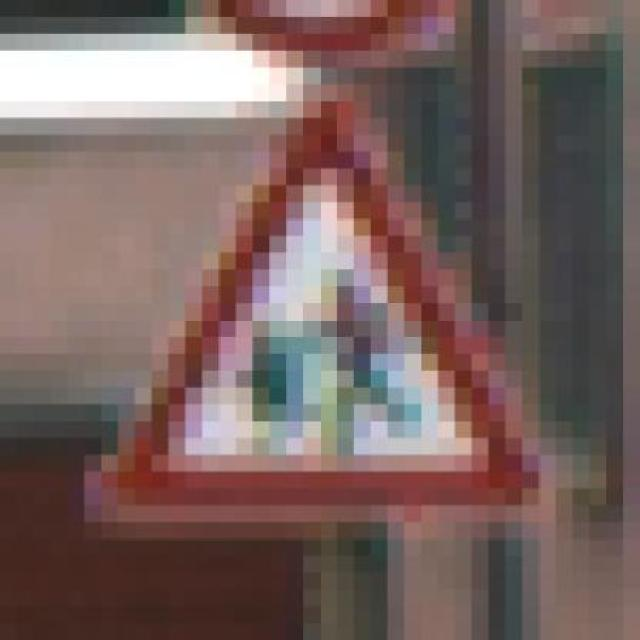Beware of children: (84, 67, 556, 539)
